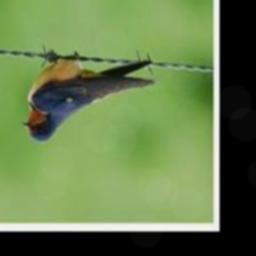Swallow: (22, 58, 155, 142)
